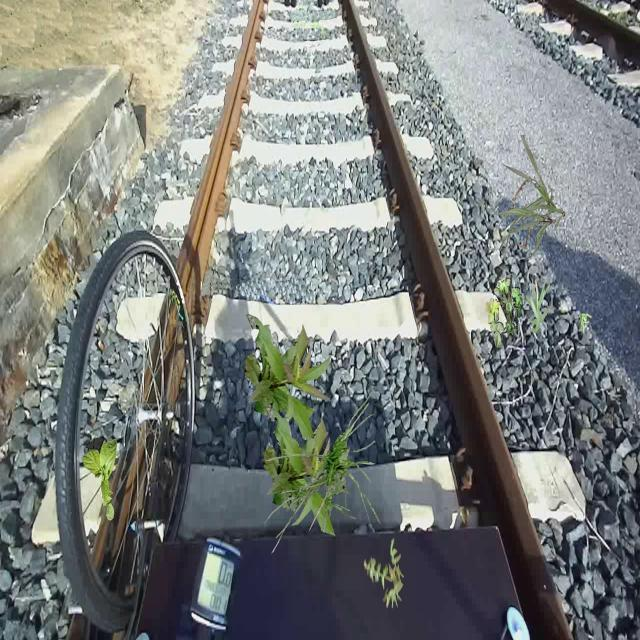Plant: (264, 391, 382, 554), (245, 314, 334, 444), (263, 407, 352, 537), (493, 135, 566, 260), (82, 437, 118, 520), (363, 538, 404, 610), (485, 275, 522, 348), (525, 277, 552, 334), (578, 313, 592, 334)
